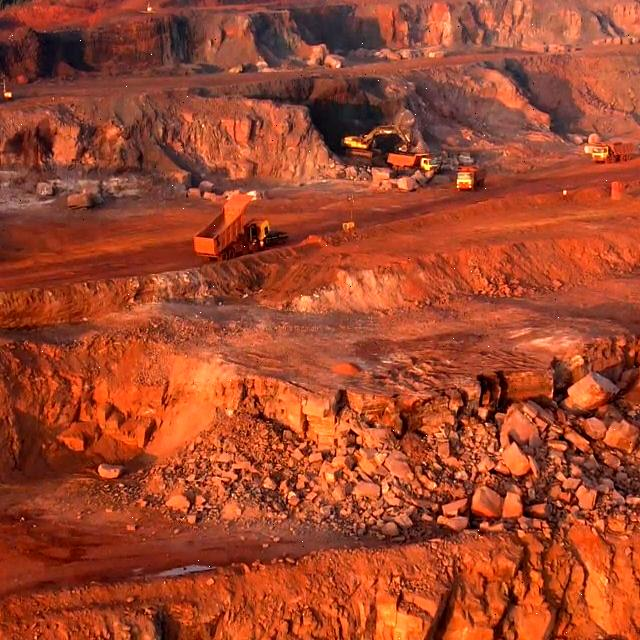Dumper truck: (198, 220, 271, 251), (594, 143, 627, 165), (456, 166, 481, 188)
Excavator: (346, 130, 381, 155)
